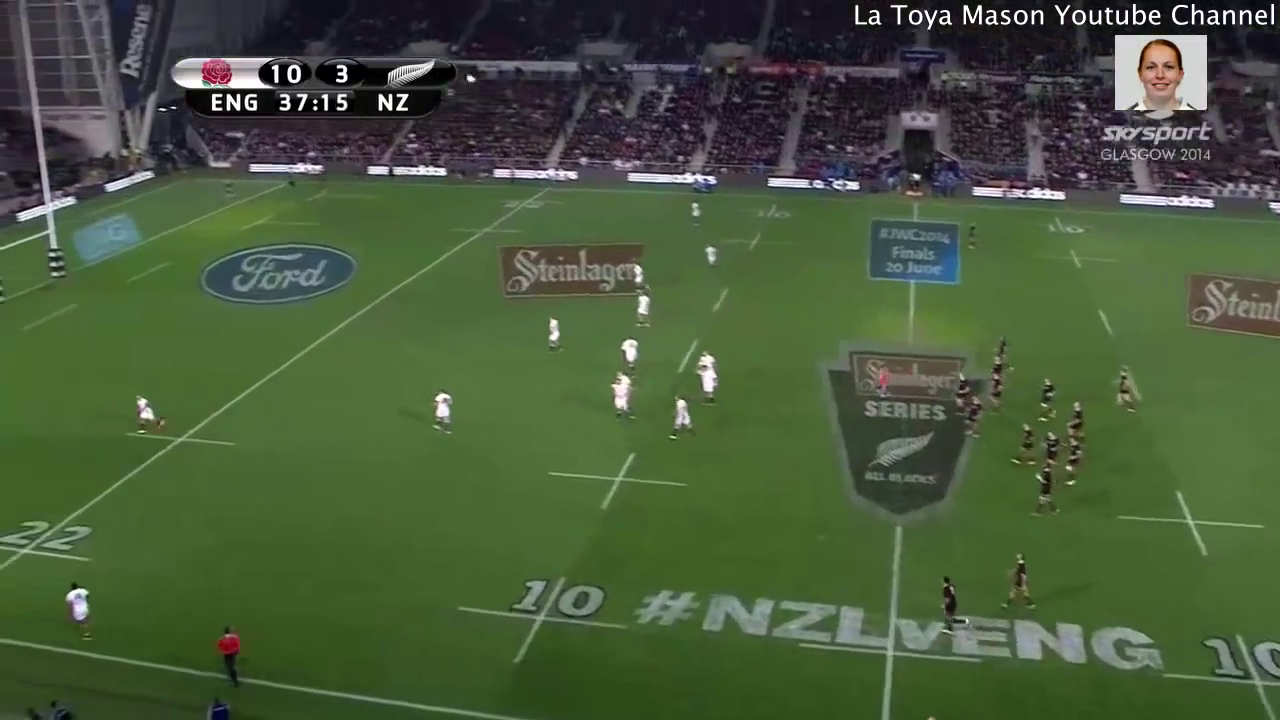10_metre: (451, 570, 629, 674), (1111, 485, 1268, 566), (1156, 626, 1280, 720), (542, 449, 690, 516), (1031, 243, 1130, 276), (719, 227, 800, 256), (733, 196, 803, 223), (1025, 214, 1107, 236)
player: (57, 580, 105, 652), (994, 544, 1040, 616), (1026, 452, 1066, 523), (932, 574, 974, 640), (421, 384, 464, 446), (125, 386, 167, 438), (1005, 415, 1041, 471), (1060, 432, 1090, 493), (666, 389, 700, 442), (538, 311, 569, 362), (608, 378, 641, 424), (692, 358, 722, 408), (960, 387, 987, 440), (1034, 374, 1062, 425), (1111, 362, 1137, 416), (1056, 395, 1087, 440), (989, 332, 1018, 374), (632, 288, 657, 334), (949, 368, 971, 420), (617, 333, 641, 379), (984, 369, 1009, 413), (1038, 427, 1061, 473), (626, 259, 654, 294), (873, 363, 895, 401), (692, 346, 724, 372), (964, 220, 983, 257), (686, 195, 706, 226), (703, 239, 721, 269), (987, 352, 1009, 375), (612, 368, 632, 384)
post: (1, 1, 69, 307)
